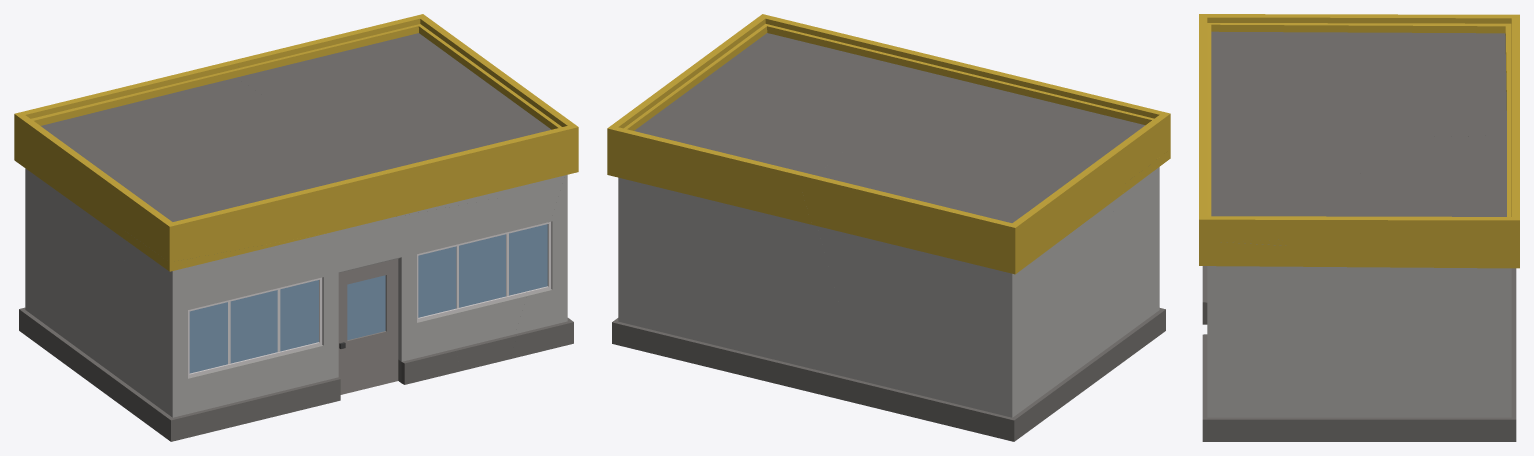
Rendered from Gas_Station_02 Fracture.fbx.
3 renders of one model, left to right at view 1: azimuth 30°, elevation 25°; view 2: azimuth 150°, elevation 25°; view 3: azimuth 270°, elevation 25°, orthographic. The views are drawn at different scales.
Visible parts, largest first — view 1: Gas_Station_02_cell.003, Gas_Station_02_cell.006, Gas_Station_02_cell.005, Gas_Station_02_cell.001, Gas_Station_02_cell.008, Gas_Station_02_cell.002, Gas_Station_02_cell, Gas_Station_02_cell.007, Gas_Station_02_cell.004, Gas_Station_02_cell.009; view 2: Gas_Station_02_cell.005, Gas_Station_02_cell.007, Gas_Station_02_cell.006, Gas_Station_02_cell, Gas_Station_02_cell.008, Gas_Station_02_cell.003, Gas_Station_02_cell.002; view 3: Gas_Station_02_cell, Gas_Station_02_cell.004, Gas_Station_02_cell.006, Gas_Station_02_cell.008, Gas_Station_02_cell.005, Gas_Station_02_cell.007, Gas_Station_02_cell.001, Gas_Station_02_cell.002.
Part boxes in pixels (x1,y1,x2,y2): Gas_Station_02_cell.003: (103,198,498,429); Gas_Station_02_cell.006: (123,97,578,262); Gas_Station_02_cell.005: (14,79,311,388); Gas_Station_02_cell.001: (440,150,577,370); Gas_Station_02_cell.008: (14,59,239,202); Gas_Station_02_cell.002: (98,269,440,441); Gas_Station_02_cell: (325,14,537,109); Gas_Station_02_cell.007: (236,38,392,127); Gas_Station_02_cell.004: (510,149,578,359); Gas_Station_02_cell.009: (327,308,461,403); Gas_Station_02_cell.005: (801,129,1124,441); Gas_Station_02_cell.007: (668,110,870,405); Gas_Station_02_cell.006: (722,14,1170,183); Gas_Station_02_cell: (607,44,791,357); Gas_Station_02_cell.008: (794,147,1123,246); Gas_Station_02_cell.003: (1094,149,1170,361); Gas_Station_02_cell.002: (1093,318,1165,383); Gas_Station_02_cell: (1282,171,1519,441); Gas_Station_02_cell.004: (1199,242,1442,441); Gas_Station_02_cell.006: (1199,14,1361,242); Gas_Station_02_cell.008: (1296,14,1519,135); Gas_Station_02_cell.005: (1299,30,1516,294); Gas_Station_02_cell.007: (1360,126,1519,389); Gas_Station_02_cell.001: (1202,239,1285,391); Gas_Station_02_cell.002: (1202,239,1285,316).
Size of the model in its own units: 706 by 358 by 465.
